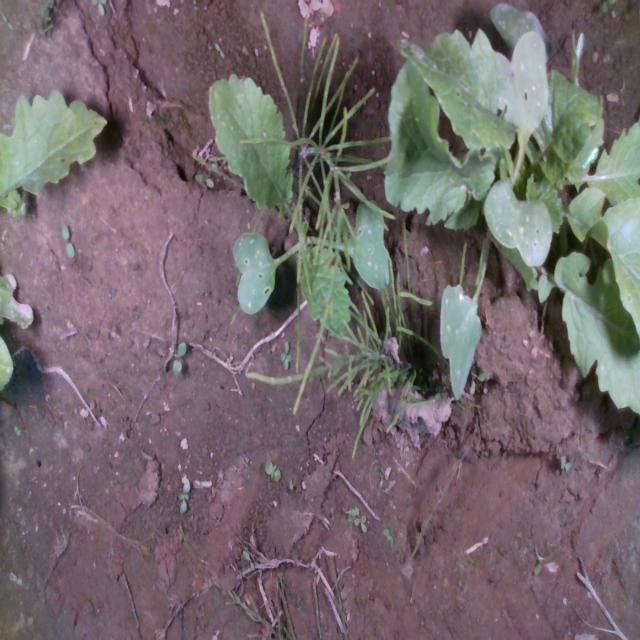weed: (171, 340, 187, 375), (60, 223, 74, 257), (263, 458, 281, 482), (178, 477, 190, 512), (280, 338, 292, 369)
